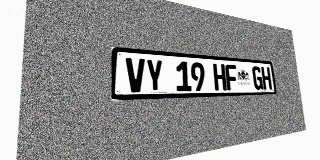1: (175, 61, 192, 91)
9: (190, 62, 206, 91)
F: (225, 64, 238, 90)
G: (252, 66, 263, 90)
H: (213, 63, 227, 91), (261, 67, 272, 90)
V: (126, 57, 146, 92)
Y: (145, 59, 164, 92)
